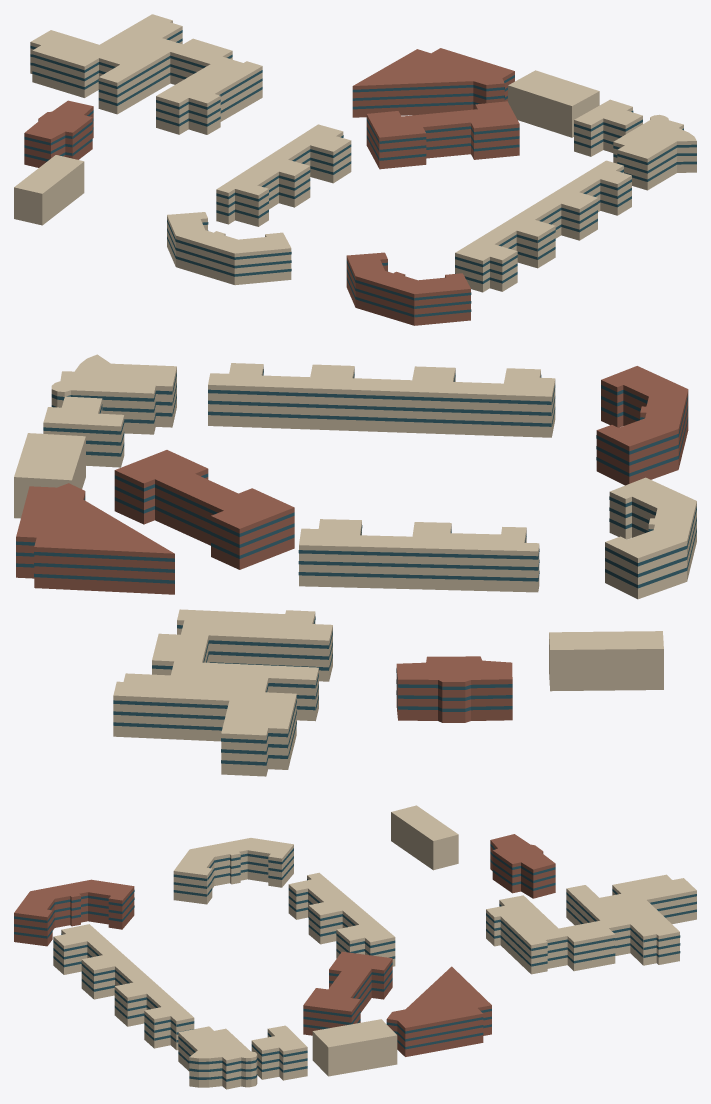
The model's file is city_6_-5.glb.
3 renders of one model, top to bottom at view 1: azimuth 30°, elevation 25°; view 2: azimuth 150°, elevation 25°; view 3: azimuth 270°, elevation 25°, orthographic. The views are drawn at different scales.
Parts seen in each view (by area): view 1: city_6_-5; view 2: city_6_-5; view 3: city_6_-5.
Part boxes in pixels (x1,y1,x2,y2): city_6_-5: [14, 14, 696, 325]; city_6_-5: [14, 354, 696, 776]; city_6_-5: [14, 805, 696, 1089].
Size of the model in its own units: 281 by 15 by 318.
